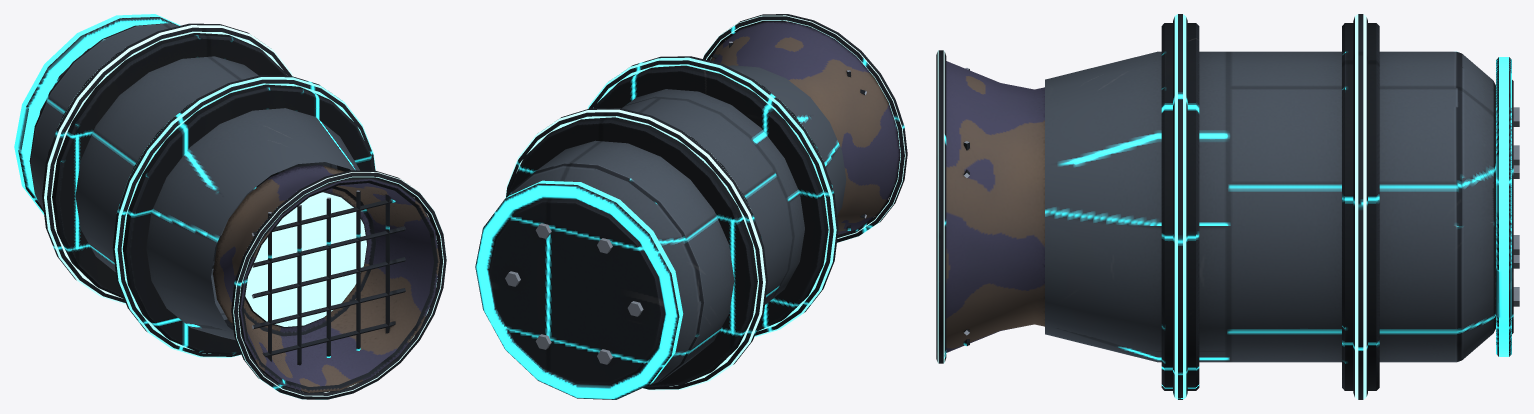
File: motor_ion_t3.fbx
3 views of the same model, side by side, from view 1: azimuth 30°, elevation 25°; view 2: azimuth 150°, elevation 25°; view 3: azimuth 270°, elevation 25° (orthographic). The views are drawn at different scales.
Visible parts, largest first — view 1: motor_ion_t3, motor_ion_t3_neon, motor_ion_t3_neon2; view 2: motor_ion_t3, motor_ion_t3_neon, motor_ion_t3_neon2; view 3: motor_ion_t3, motor_ion_t3_neon, motor_ion_t3_neon2.
Part boxes in pixels (x1,y1,x2,y2): motor_ion_t3: (14, 14, 446, 399); motor_ion_t3_neon: (44, 25, 446, 399); motor_ion_t3_neon2: (114, 77, 375, 357); motor_ion_t3: (475, 14, 907, 399); motor_ion_t3_neon: (505, 15, 905, 390); motor_ion_t3_neon2: (587, 57, 836, 337); motor_ion_t3: (936, 14, 1519, 399); motor_ion_t3_neon: (937, 14, 1366, 399); motor_ion_t3_neon2: (1174, 14, 1186, 399).
Size of the model in its own units: 3.09 by 3.07 by 4.66.
